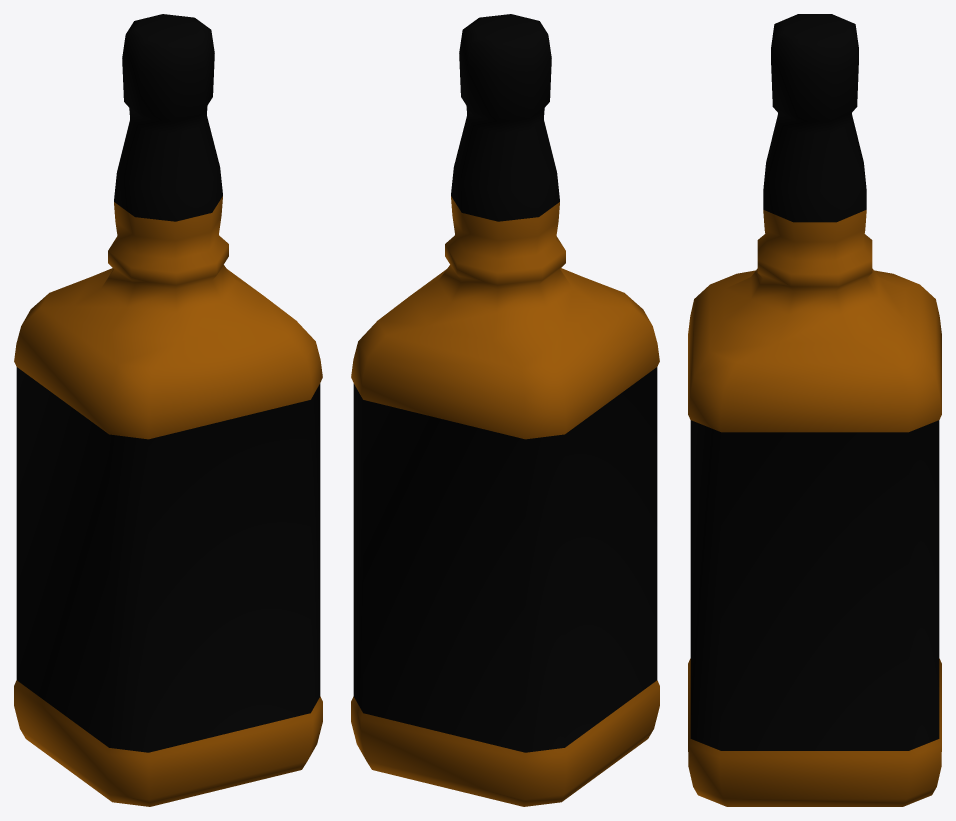
The model's file is Whiskey.fbx.
3 views of the same model, side by side, from view 1: azimuth 30°, elevation 25°; view 2: azimuth 150°, elevation 25°; view 3: azimuth 270°, elevation 25° (orthographic).
Visible parts, largest first — view 1: Whiskey; view 2: Whiskey; view 3: Whiskey.
Boxes of the visible parts, left/top/right/bottom form: Whiskey: left=14, top=14, right=322, bottom=806; Whiskey: left=351, top=14, right=659, bottom=806; Whiskey: left=688, top=14, right=941, bottom=806.
Bounding box in the file's own units: 8.77 × 28.09 × 8.79.
